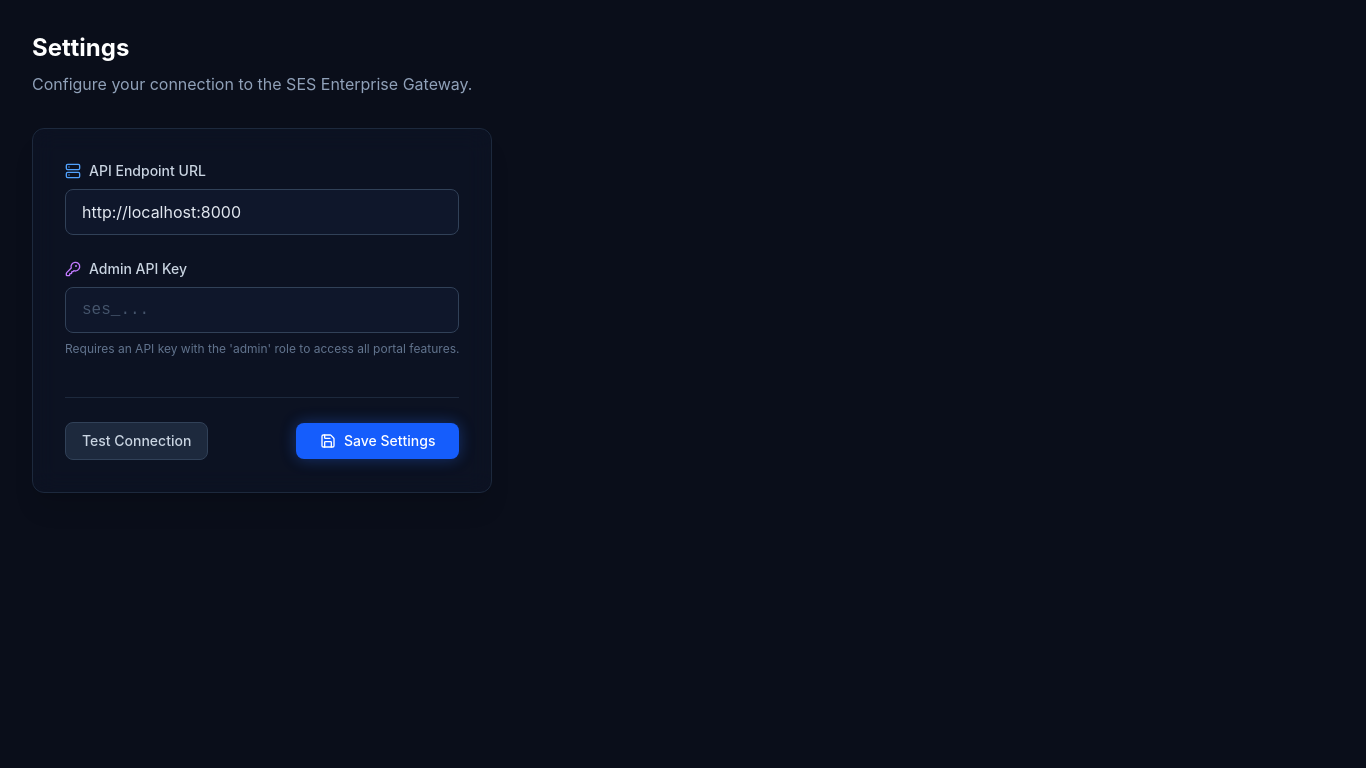
Test: SettingsPage › shows the concrete authentication failure when connection testing fails
Click the button "Test Connection": (137, 441) [65, 422, 208, 460]
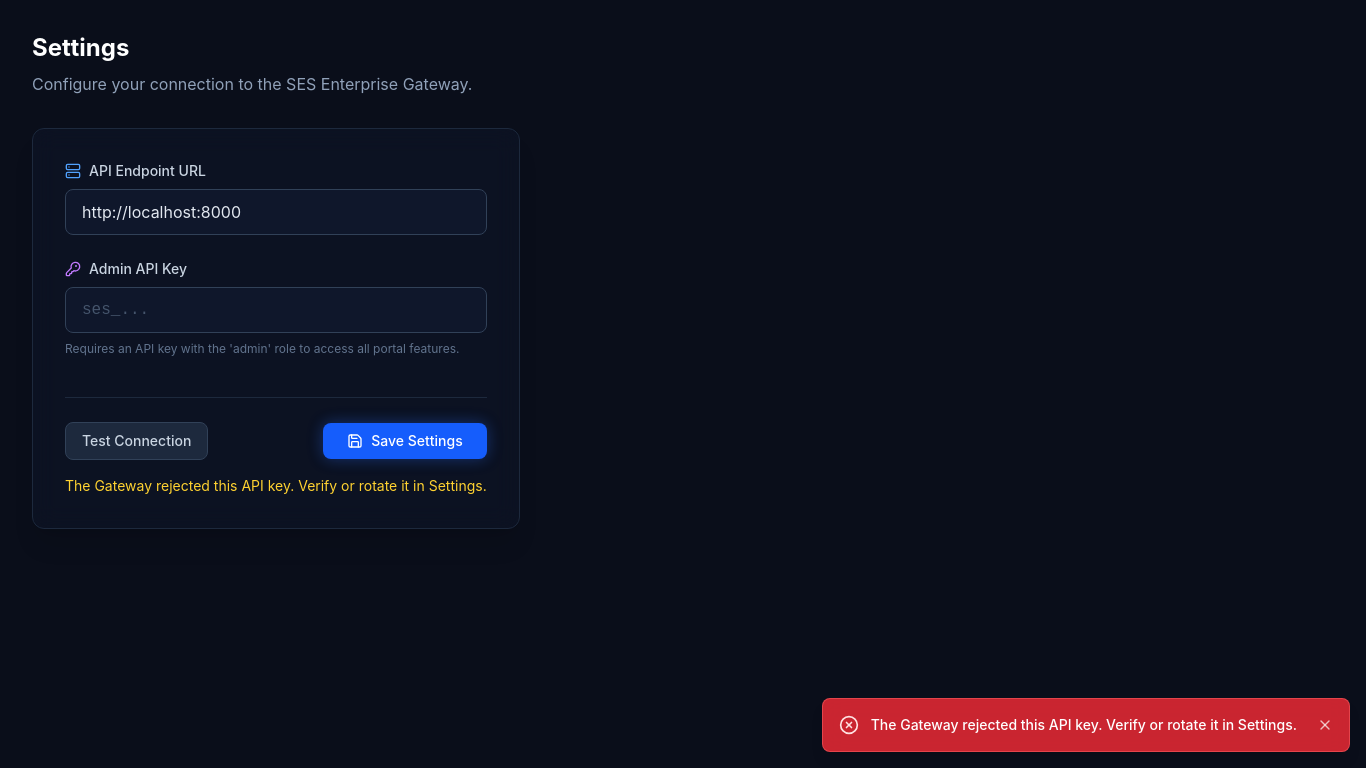
Expected: the text "The Gateway rejected this API key. Verify or rotate it in Settings." is shown, [65, 477, 487, 494]
